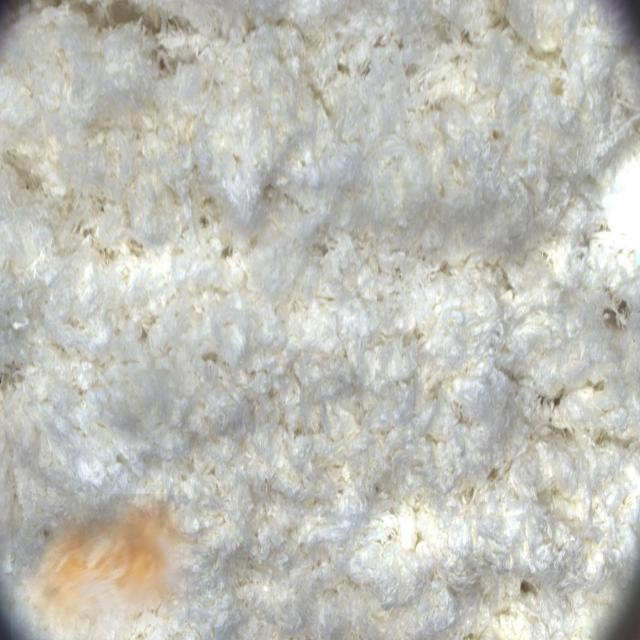dust: (11, 493, 194, 640)
